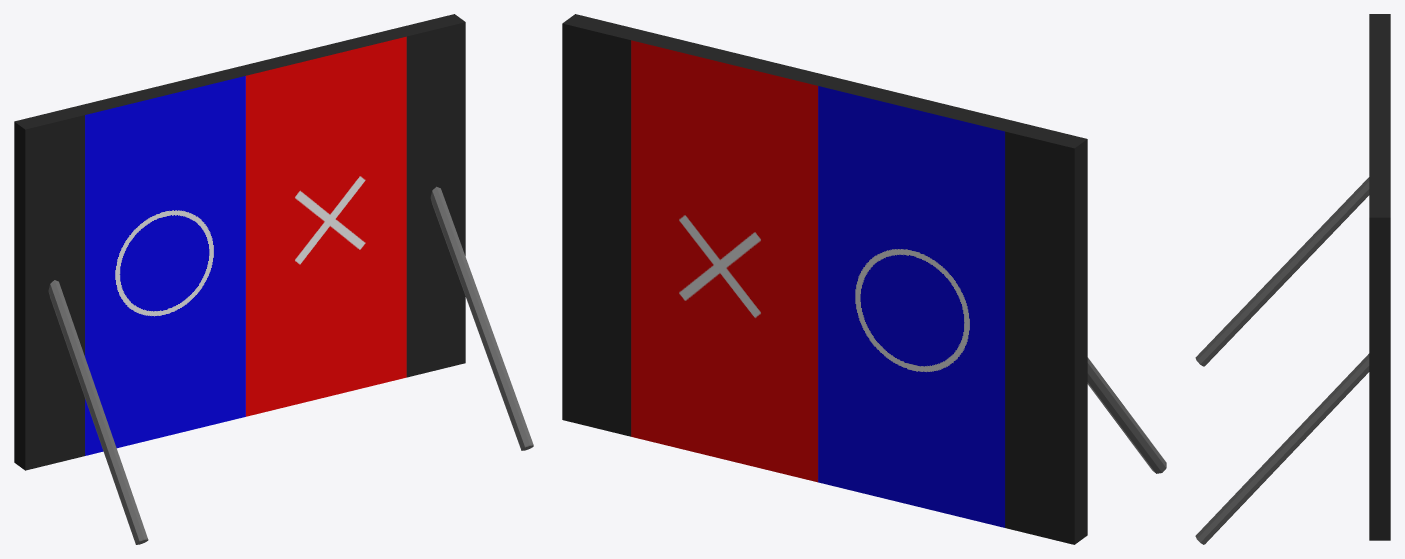
File: branchPoint2.obj
3 views of the same model, side by side, from view 1: azimuth 30°, elevation 25°; view 2: azimuth 150°, elevation 25°; view 3: azimuth 270°, elevation 25° (orthographic). The views are drawn at different scales.
Visible parts, largest first — view 1: 立方体_立方体.002; view 2: 立方体_立方体.002; view 3: 立方体_立方体.002.
Boxes of the visible parts, x1,y1,x2,y2 form: 立方体_立方体.002: (14, 14, 533, 544); 立方体_立方体.002: (562, 14, 1166, 544); 立方体_立方体.002: (1195, 14, 1390, 544).
Size of the model in its own units: 2 by 1.55 by 0.8106.
Materials: 1 (1 with a texture image).
